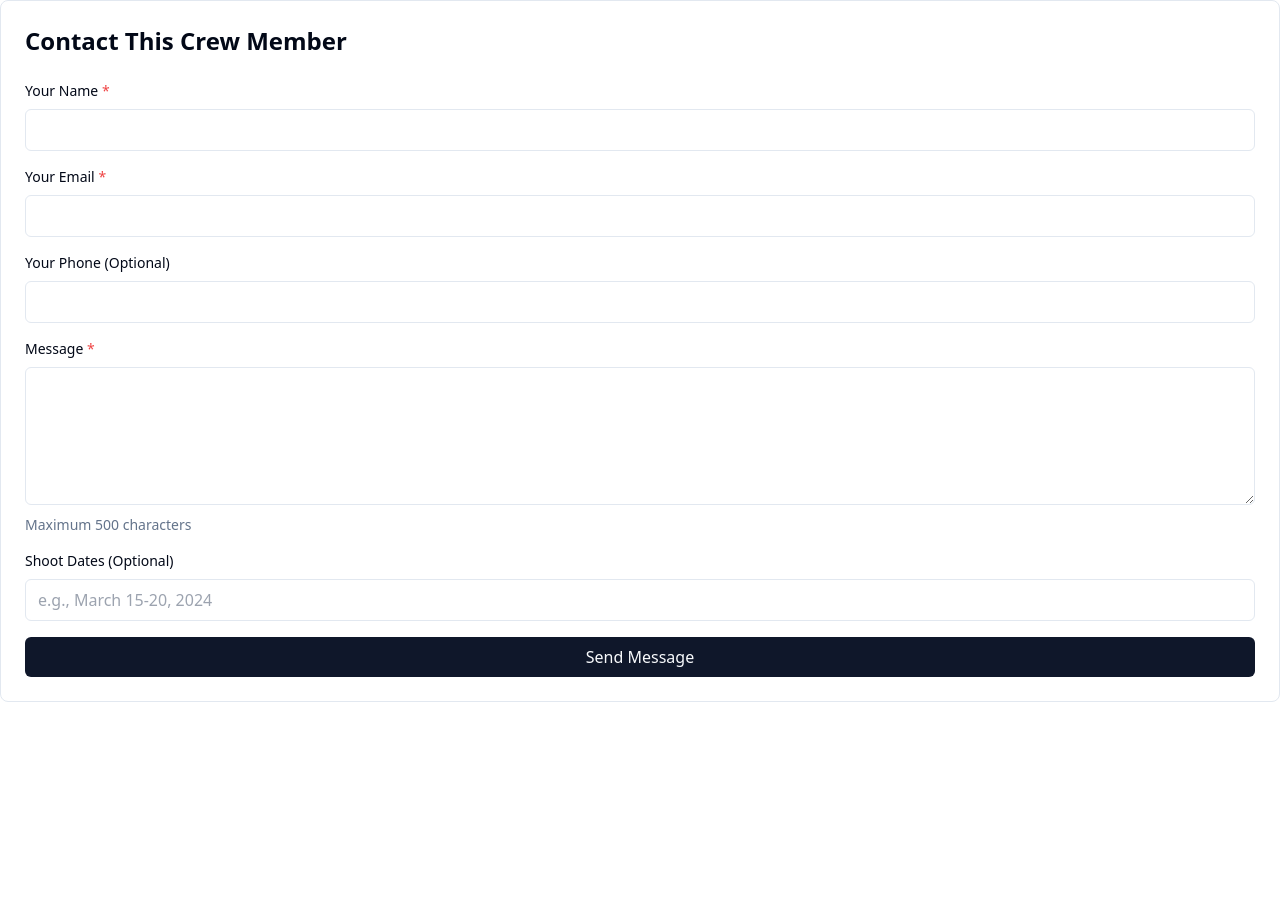
ContactForm › should submit form successfully
In the field labelled "Your Name *": (640, 130) [25,109,1255,151], type "John Producer"
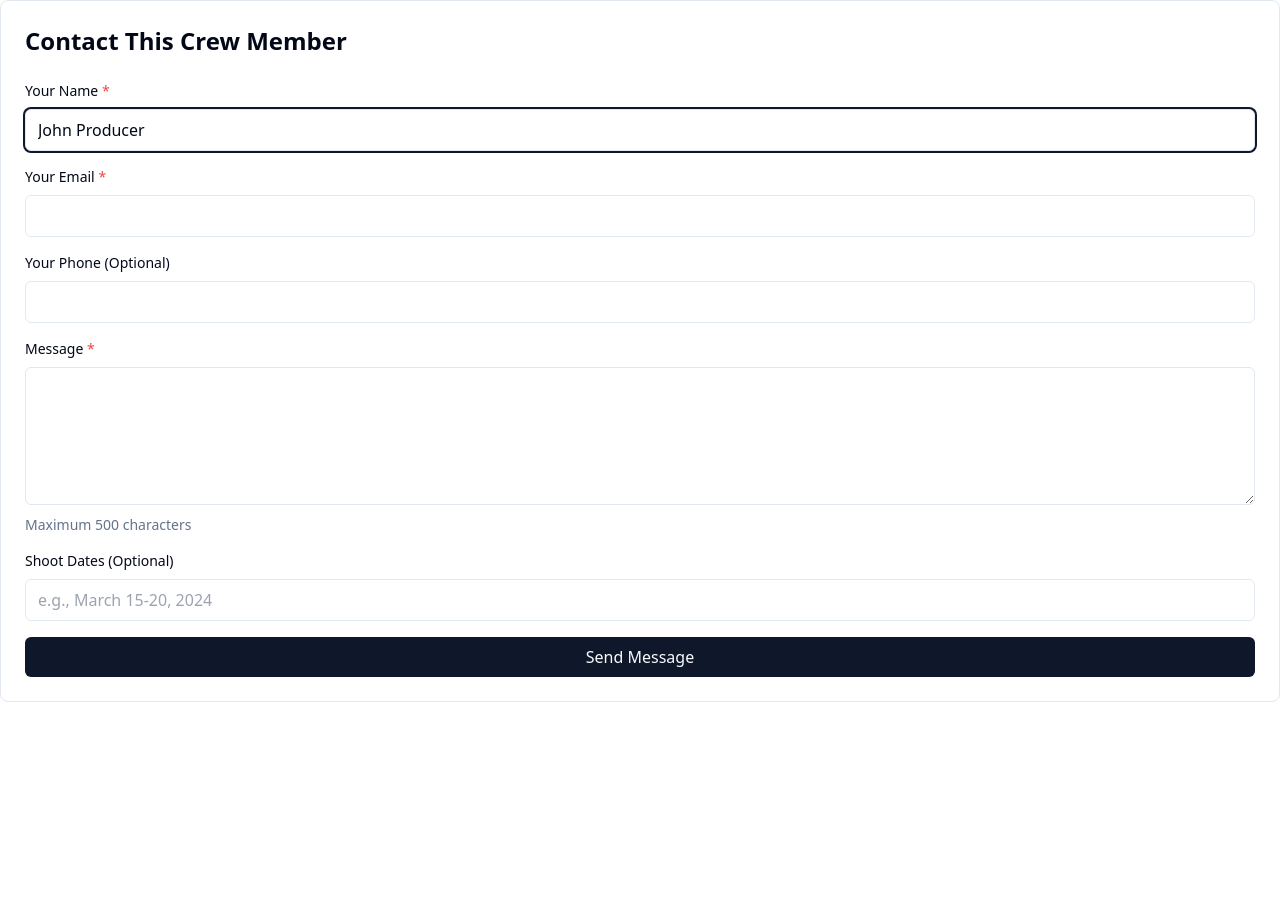
In the field labelled "Your Email *": (640, 216) [25,195,1255,237], type "john@example.com"
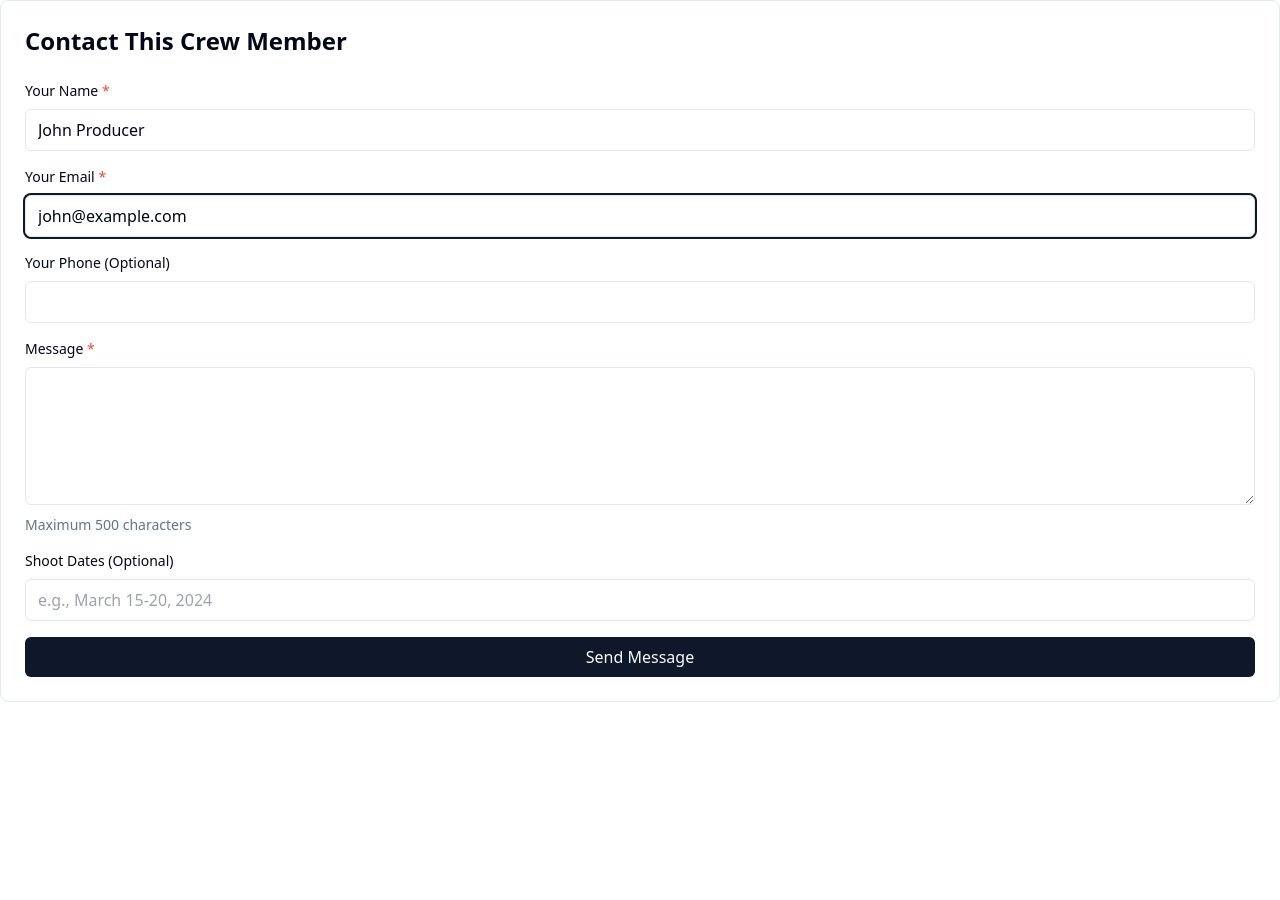
In the text box labelled "Message *": (640, 436) [25,367,1255,505], type "Interested in working together"
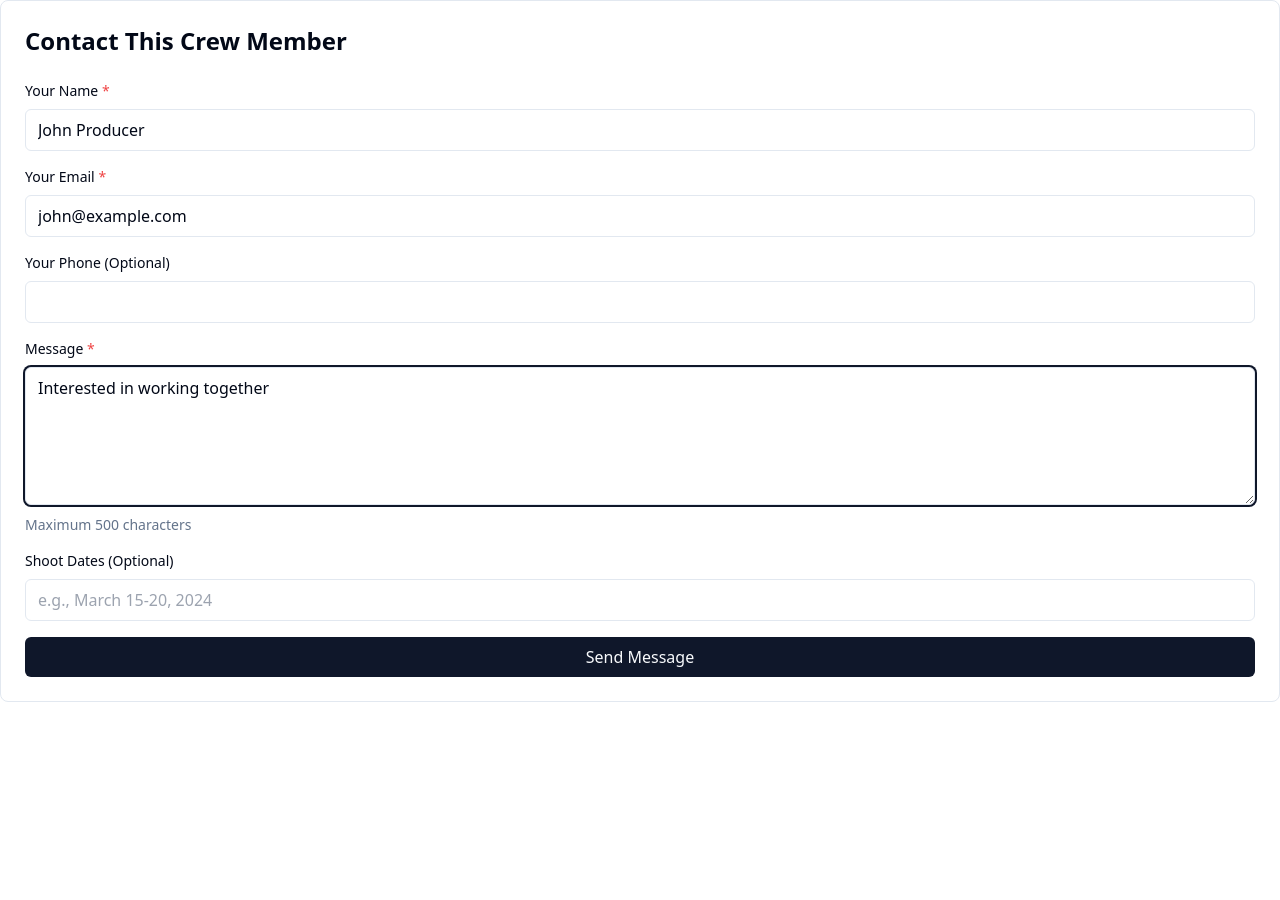
Click the button "Send Message": (640, 657) [25,637,1255,677]
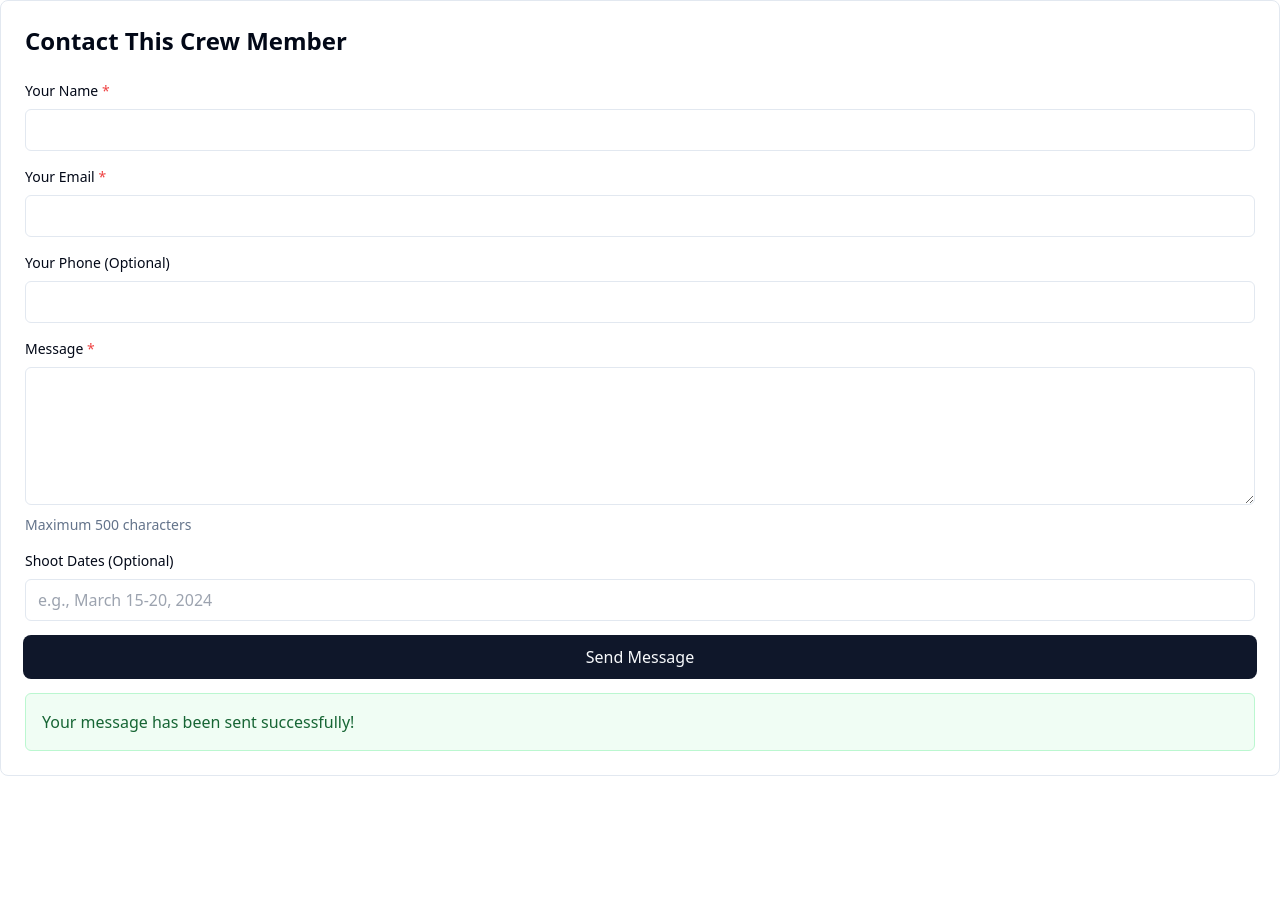
expect the text "Your message has been sent successfully!" is shown: met, box [25,693,1255,751]
expect the field labelled "Your Name *" is empty: met, box [25,109,1255,151]
